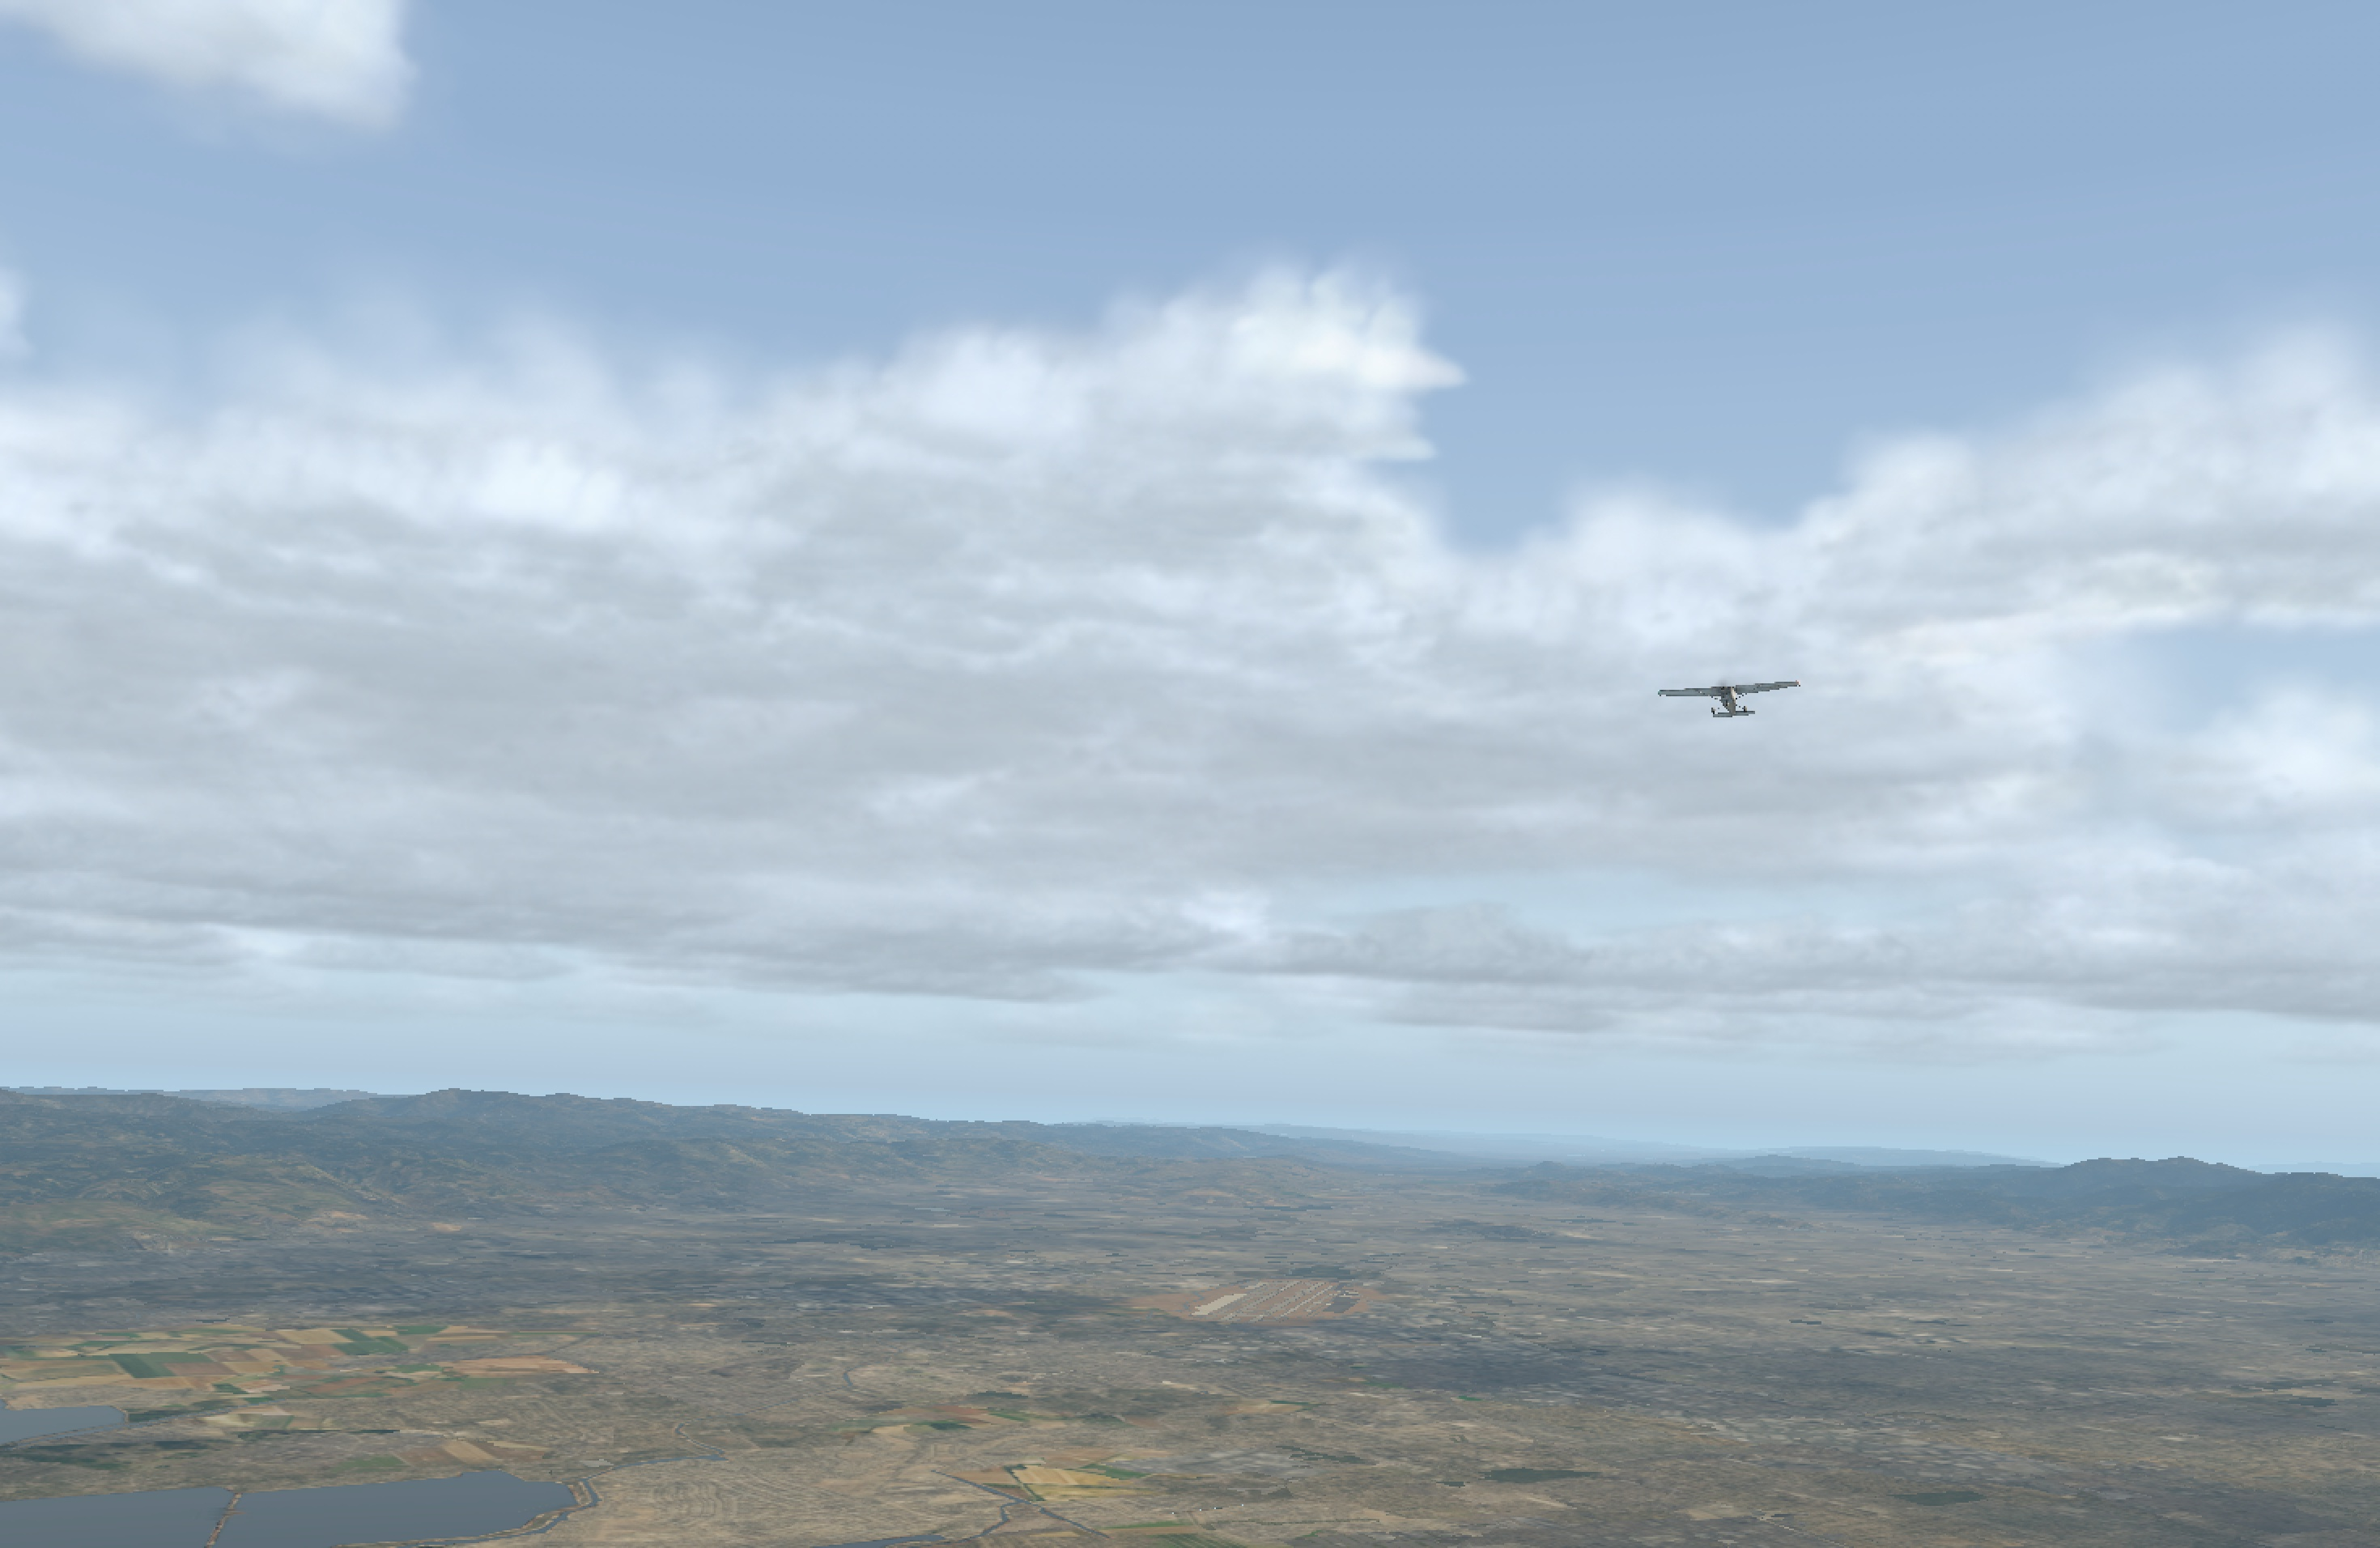aircraft: (1681, 677, 1776, 713)
